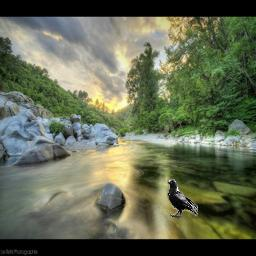Crow: (166, 179, 198, 219)
